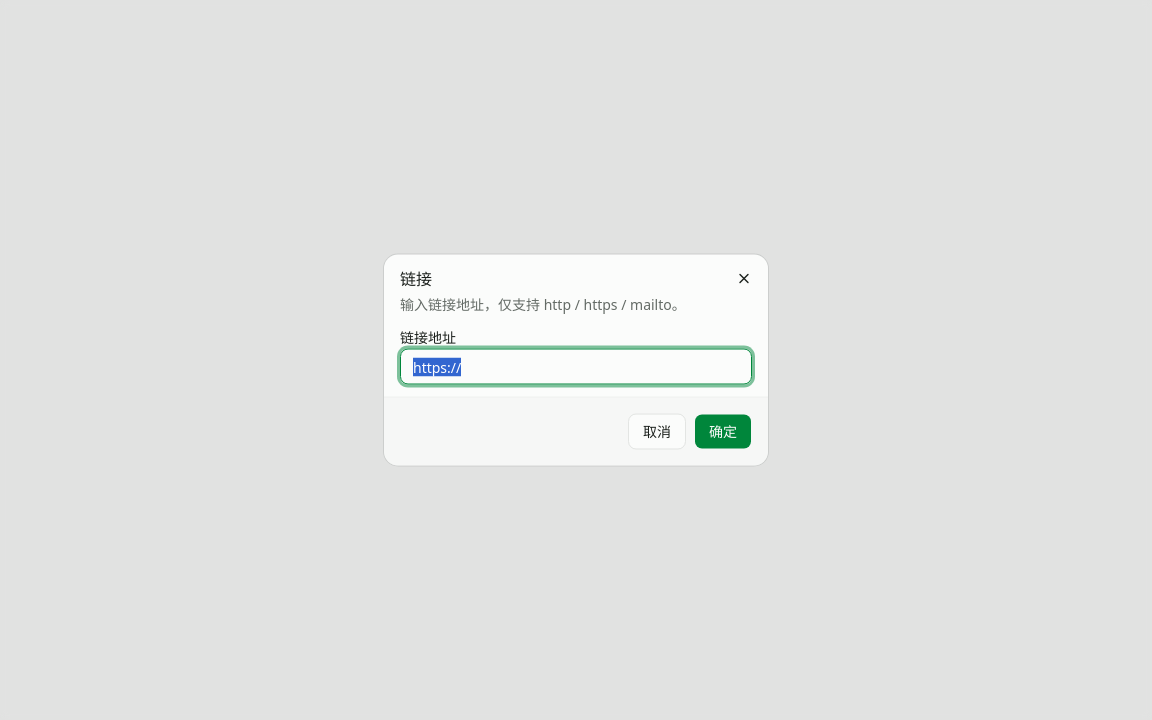
Test: LinkDialog › 非法协议不提交并显示错误
Replace the text in the field labelled "链接地址" with "ftp://bad" at (576, 366), box [400, 348, 752, 384]
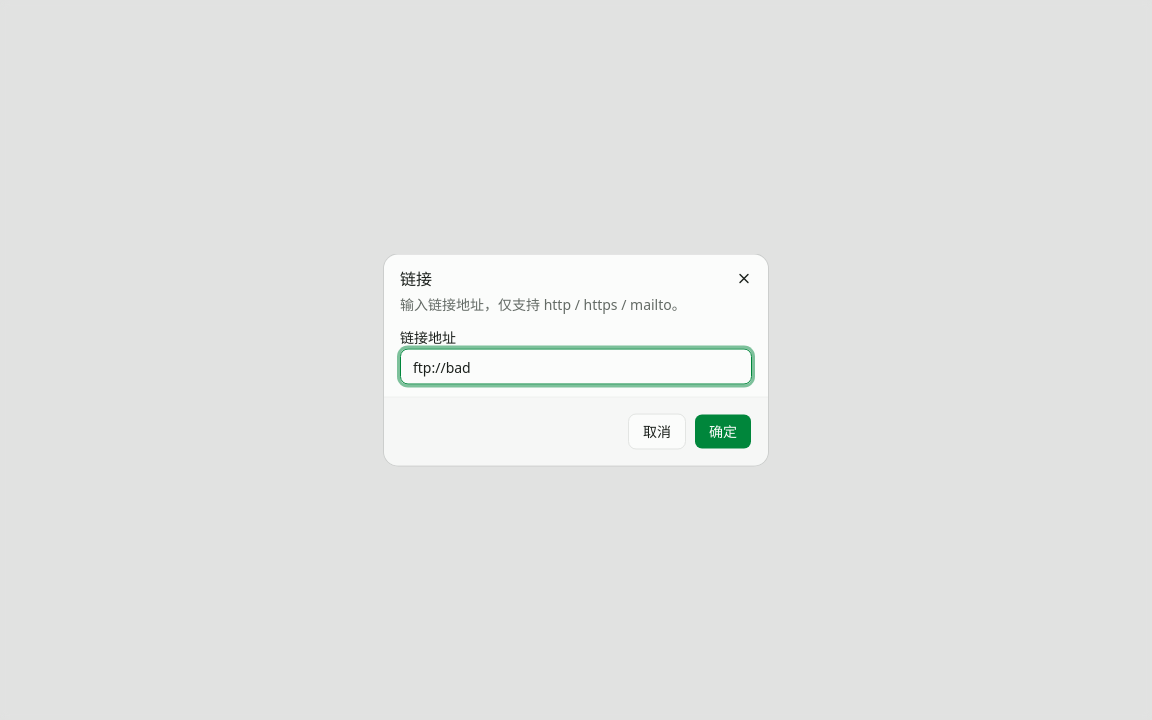
Click the button "确定".
click(723, 432)  # box [694, 414, 752, 450]
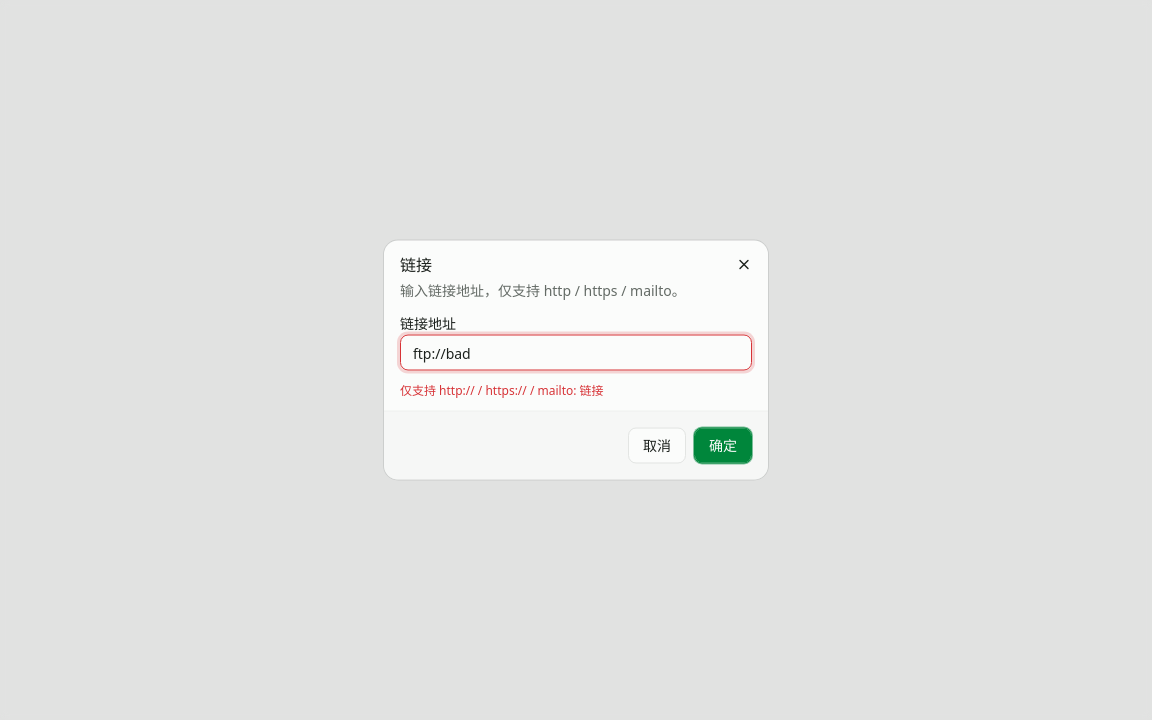
Check: the text "仅支持 http:// / https:// / mailto: 链接" is shown, box [400, 382, 604, 398]
